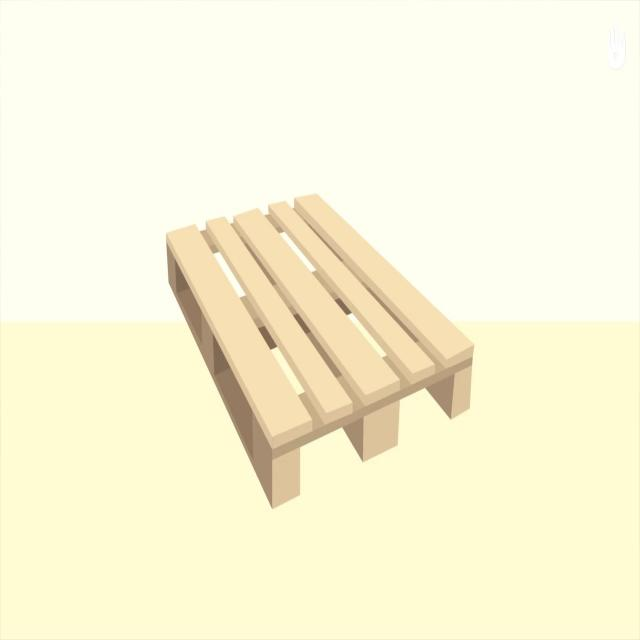Palette: (162, 190, 482, 529)
